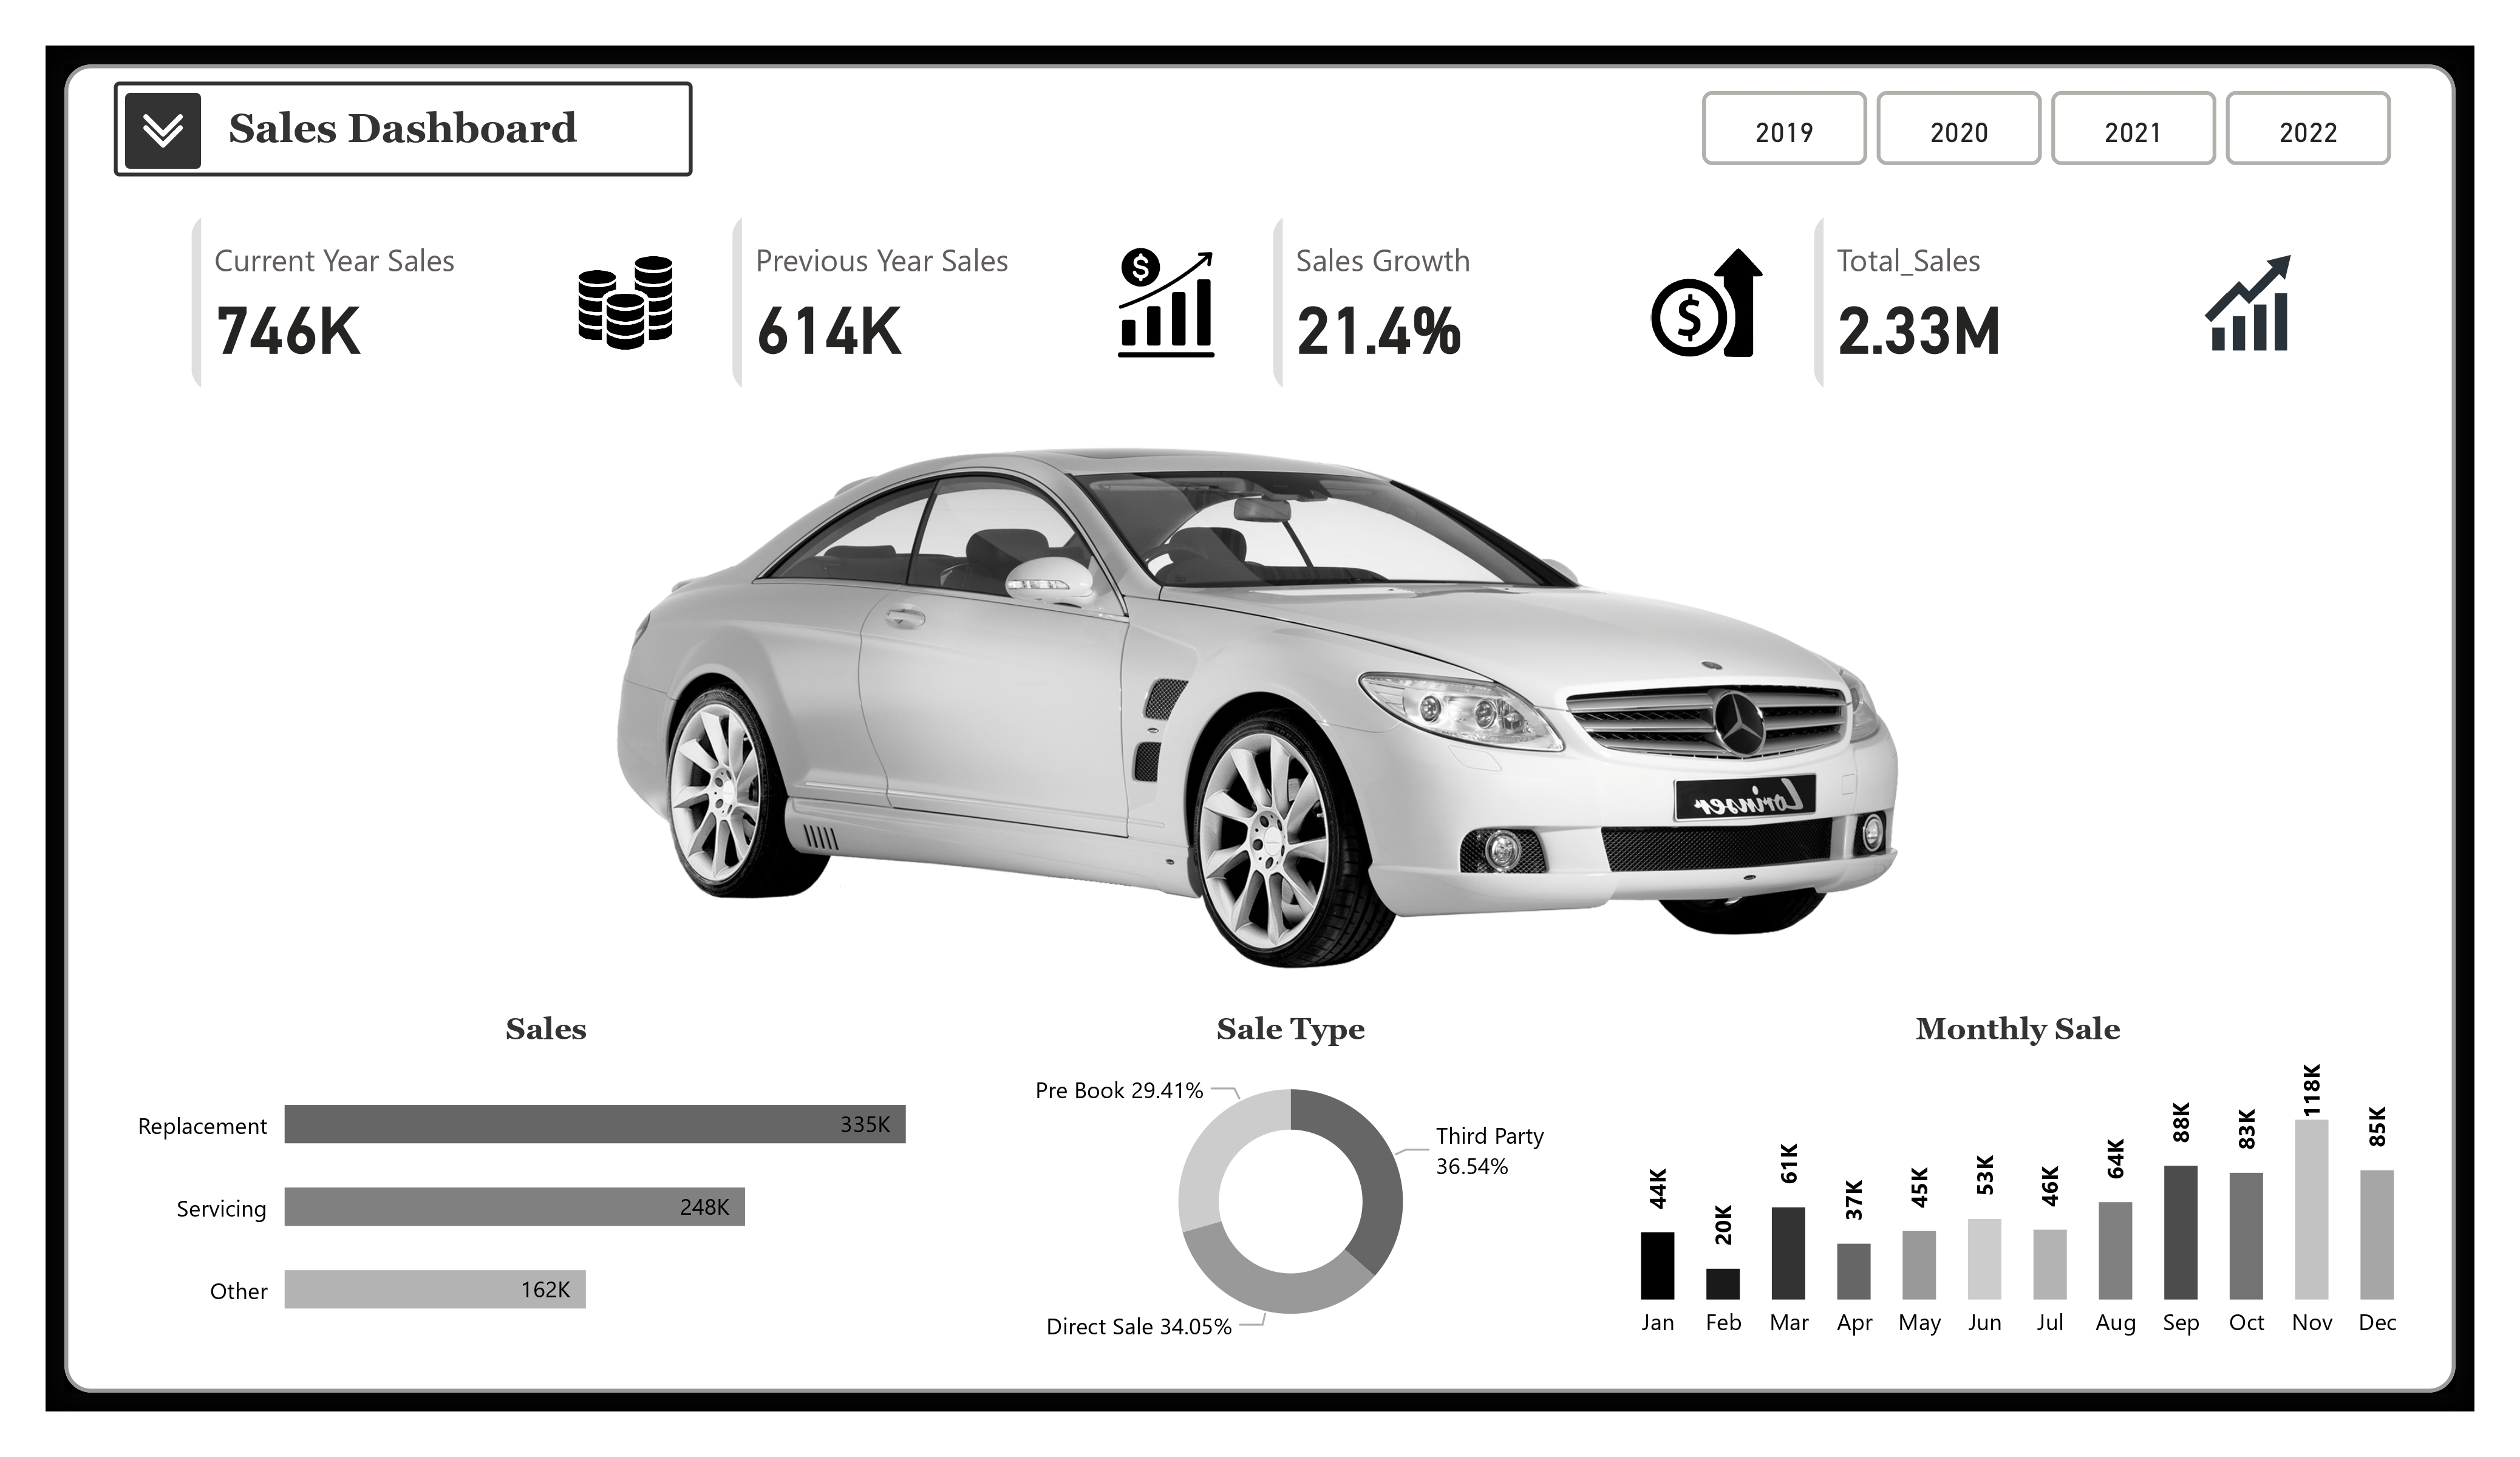

Layout of this report page (visuals, bound fields, positions):
{"tool":"powerbi","page":{"name":"Dashboard","canvas":[1280,720],"ordinal":2},"visuals":[{"type":"shape","box":[10,10,1260,700],"z":0},{"type":"donutChart","title":"Sale Type","fields":{"Y":["Orders.Current_year_sales"],"Category":["New_Category.New_Categ"]},"box":[491.4,509.2,330.3,181.7],"z":1000},{"type":"clusteredBarChart","title":"Sales","fields":{"Y":["Orders.Current_year_sales"],"Category":["New_City.Seg"]},"box":[37.2,509.2,454.2,181.7],"z":2000},{"type":"clusteredColumnChart","title":"Monthly Sale","fields":{"Y":["Orders.Current_year_sales"],"Category":["Orders.Month"]},"box":[821.7,509.2,434.9,181.7],"z":3000},{"type":"shape","box":[35.7,19.2,305.5,49.5],"z":4000},{"type":"advancedSlicerVisual","fields":{"Values":["Orders.Order Date.Variation.Date Hierarchy.Year"]},"box":[868,19,308,50],"z":5000},{"type":"cardVisual","fields":{"Data":["Orders.Current_year_sales","Orders.Previous_year_sales","Orders.Sales_growth","Orders.Total_Sales"]},"box":[71.5,82.9,1137,105.8],"z":6000},{"type":"image","box":[18.8,18.8,87.2,49.6],"z":7000},{"type":"image","box":[72.9,188.8,1134.1,321.8],"z":8000},{"type":"image","box":[1176,19,55,50],"z":12001}]}

Visuals, with their boxes on the page's 1280x720 design canvas (x1, y1, x2, y2). These are canvas units, not pixel positions in the 2520x1457 screenshot, which may show the page scaled, cropped or inside an application window:
shape: (10, 10, 1270, 710)
"Sale Type" donutChart: (491, 509, 822, 691)
"Sales" clusteredBarChart: (37, 509, 491, 691)
"Monthly Sale" clusteredColumnChart: (822, 509, 1257, 691)
shape: (36, 19, 341, 69)
advancedSlicerVisual - Orders.Order Date.Variation.Date Hierarchy.Year: (868, 19, 1176, 69)
cardVisual - Orders.Current_year_sales x Orders.Previous_year_sales: (72, 83, 1208, 189)
image: (19, 19, 106, 68)
image: (73, 189, 1207, 511)
image: (1176, 19, 1231, 69)
